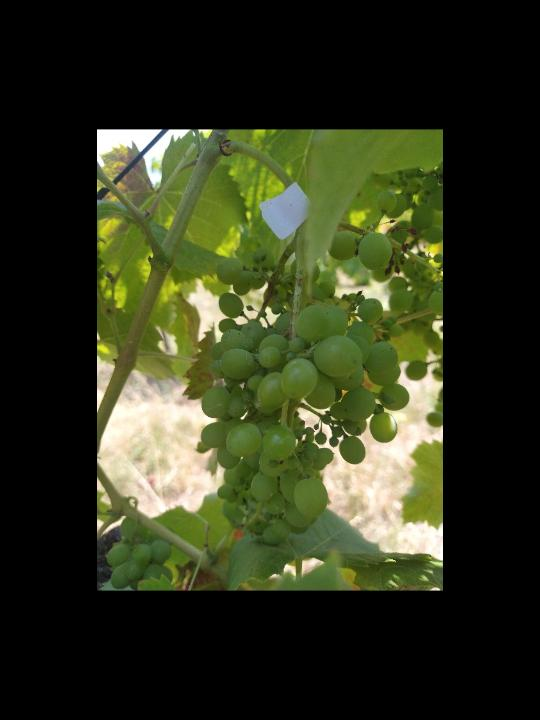grape: (199, 190, 413, 549)
